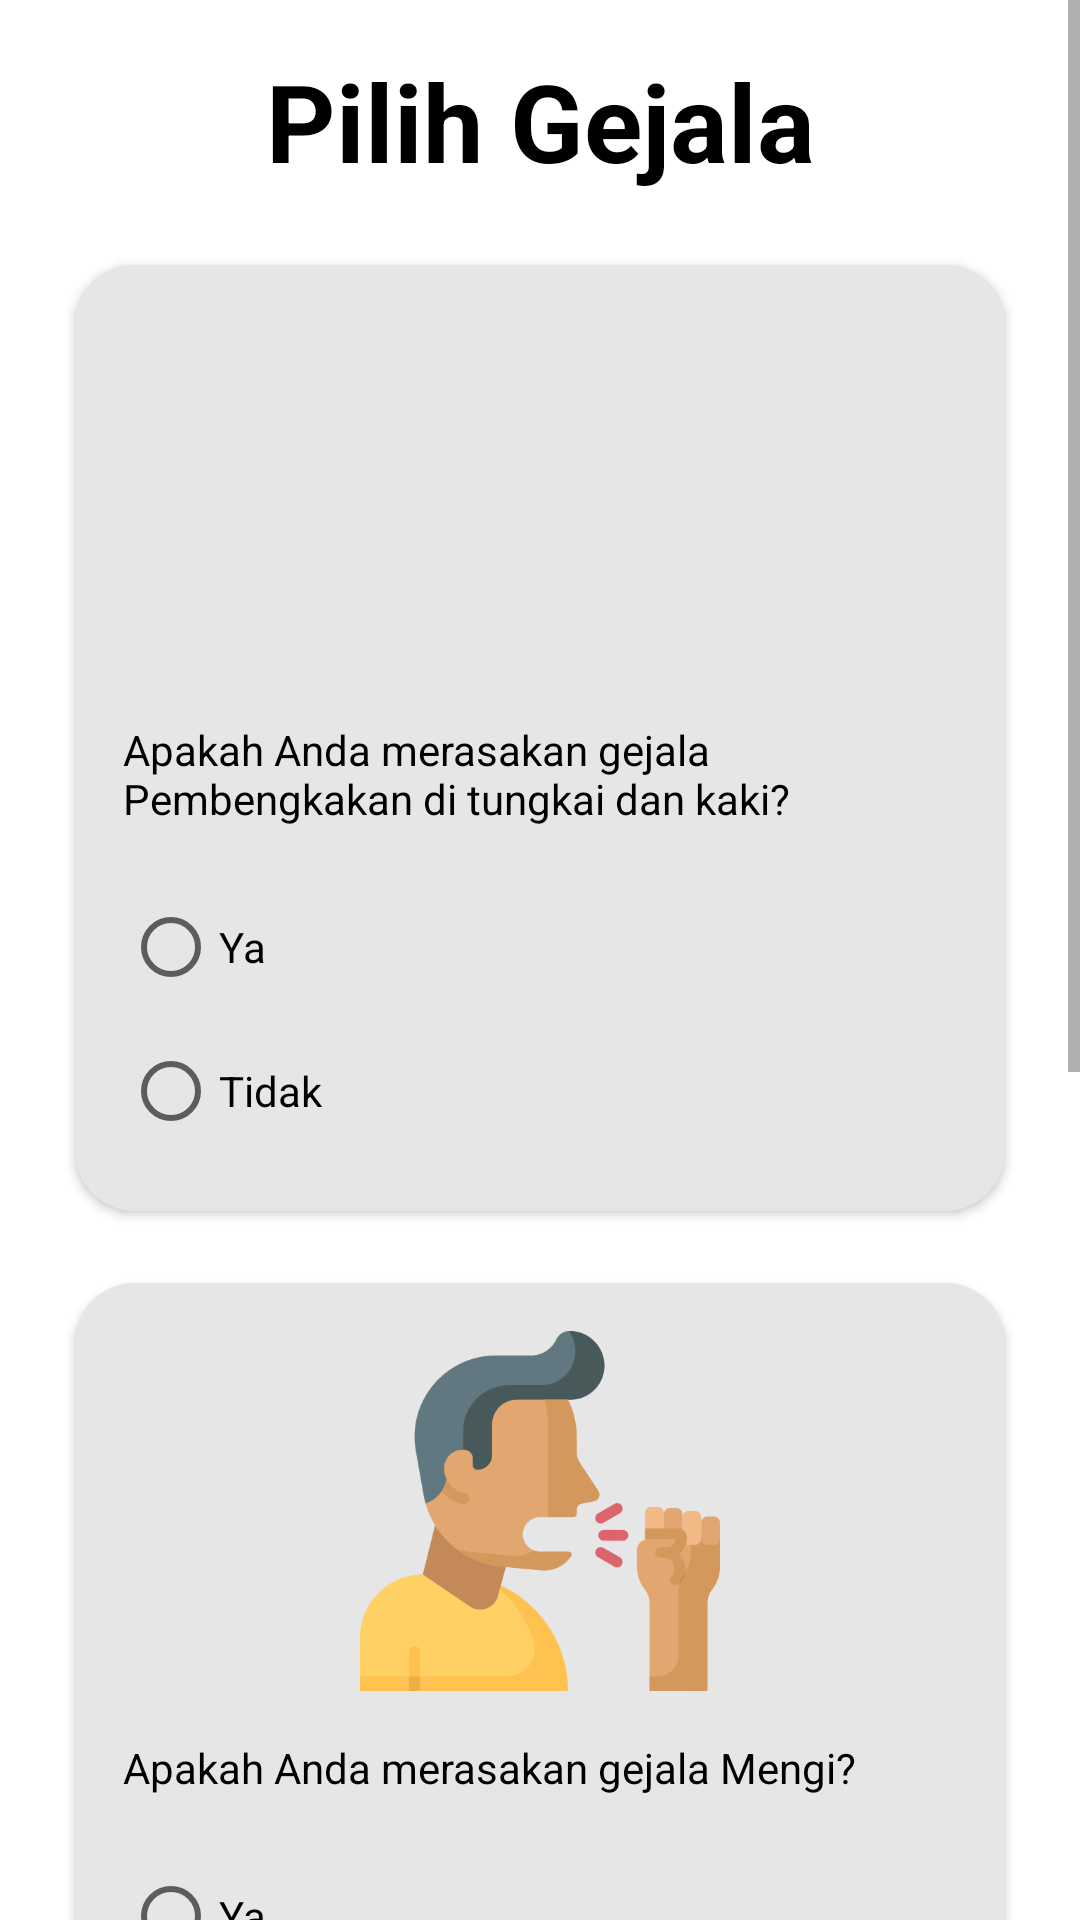

Point at icon controls on the screen. Image size 1080 x 1920, points as point (x, y).
cough: point (540, 1511)
